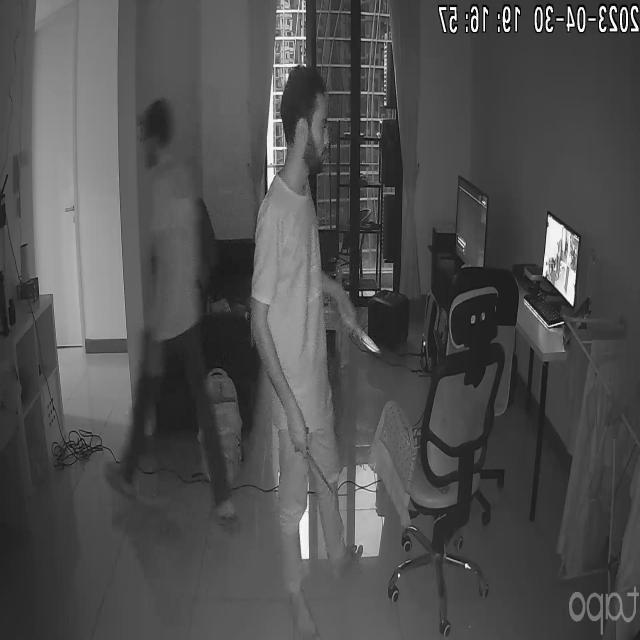Knife: (288, 441, 342, 500), (341, 308, 384, 360)
